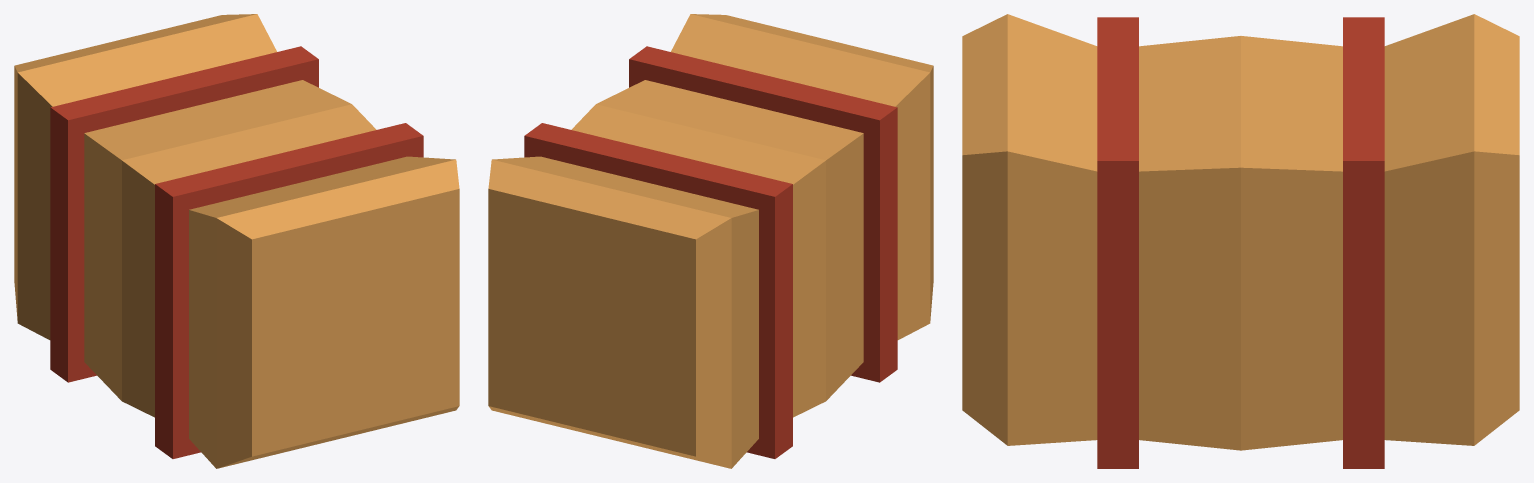
Rendered from Saman2.fbx.
3 renders of one model, left to right at view 1: azimuth 30°, elevation 25°; view 2: azimuth 150°, elevation 25°; view 3: azimuth 270°, elevation 25°, orthographic. The views are drawn at different scales.
Visible parts, largest first — view 1: Cube.005; view 2: Cube.005; view 3: Cube.005.
Part boxes in pixels (x1,y1,x2,y2): Cube.005: [14, 14, 459, 468]; Cube.005: [488, 14, 933, 468]; Cube.005: [962, 14, 1519, 468].
Size of the model in its own units: 0.4702 by 0.4802 by 0.7716.
